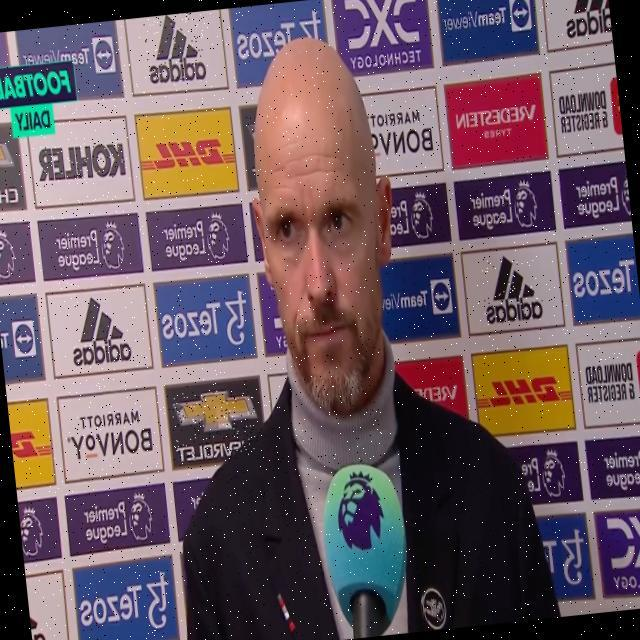Adidas: (67, 294, 133, 370), (478, 250, 544, 325), (143, 11, 208, 87)
Chevrolet: (170, 386, 259, 464)
Kohler: (36, 138, 127, 187)
TeamViewer: (21, 36, 115, 80), (440, 0, 531, 40)
